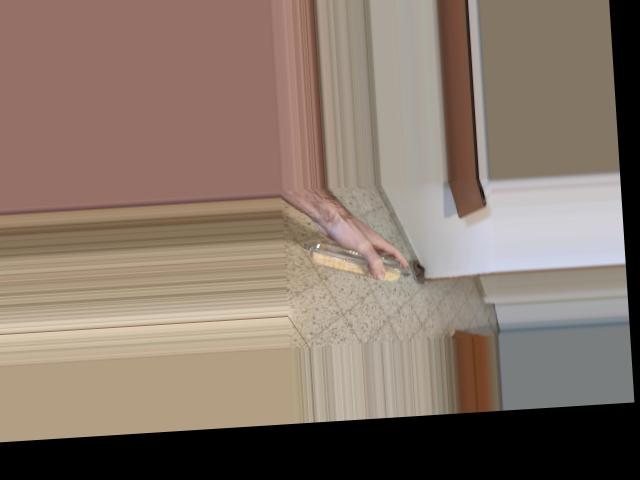cheese: (317, 211, 415, 297)
